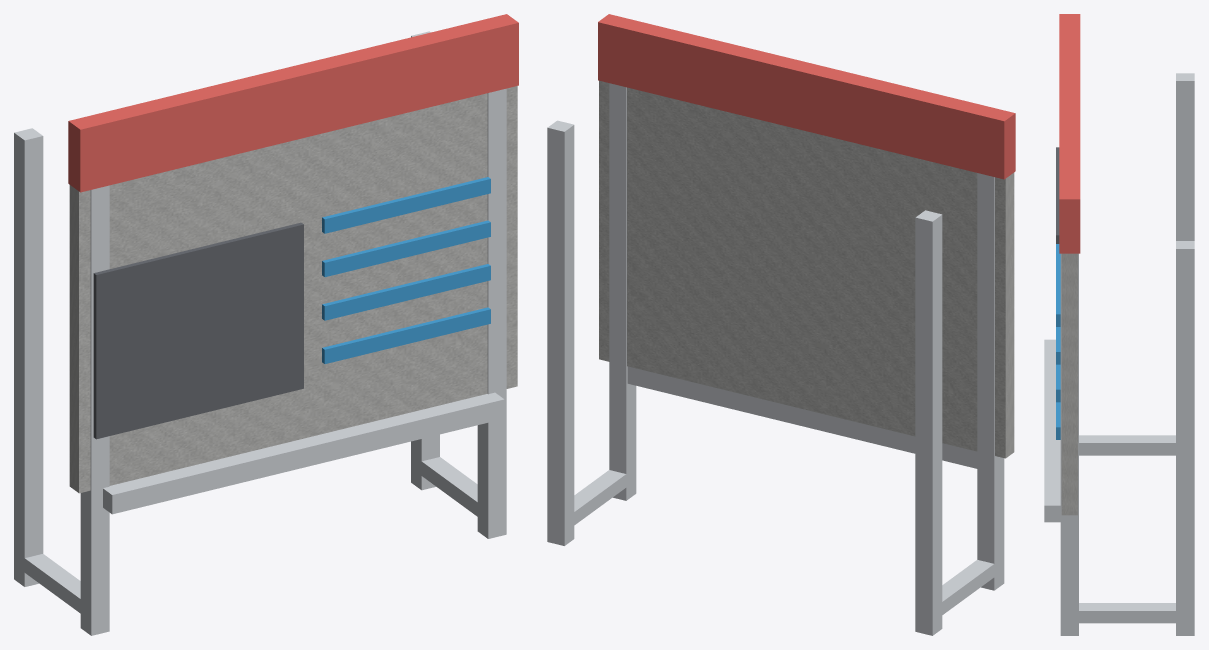
File: go-kart-track-and-pit-lane-driver-briefing-board-1c410f1b__34356.glb
3 renders of one model, left to right at view 1: azimuth 30°, elevation 25°; view 2: azimuth 150°, elevation 25°; view 3: azimuth 270°, elevation 25°, orthographic. The views are drawn at different scales.
Visible parts, largest first — view 1: driver-briefing-board-concrete, driver-briefing-board-steel, driver-briefing-board-charcoal, driver-briefing-board-red, driver-briefing-board-azure; view 2: driver-briefing-board-concrete, driver-briefing-board-steel, driver-briefing-board-red; view 3: driver-briefing-board-steel, driver-briefing-board-red, driver-briefing-board-concrete, driver-briefing-board-azure, driver-briefing-board-charcoal.
Part boxes in pixels (<box>): driver-briefing-board-concrete: <box>69,86,517,493</box>; driver-briefing-board-steel: <box>14,31,506,635</box>; driver-briefing-board-charcoal: <box>93,222,303,439</box>; driver-briefing-board-red: <box>68,14,518,192</box>; driver-briefing-board-azure: <box>322,177,490,363</box>; driver-briefing-board-concrete: <box>599,80,1014,458</box>; driver-briefing-board-steel: <box>547,83,1004,635</box>; driver-briefing-board-red: <box>598,14,1015,179</box>; driver-briefing-board-steel: <box>1044,73,1194,635</box>; driver-briefing-board-red: <box>1059,14,1080,253</box>; driver-briefing-board-concrete: <box>1061,253,1077,515</box>; driver-briefing-board-azure: <box>1056,244,1060,439</box>; driver-briefing-board-charcoal: <box>1056,147,1059,243</box>.
Bounding box in the file's own units: 1.9 × 2.11 × 0.65.
Materials: 5 (1 with a texture image).
